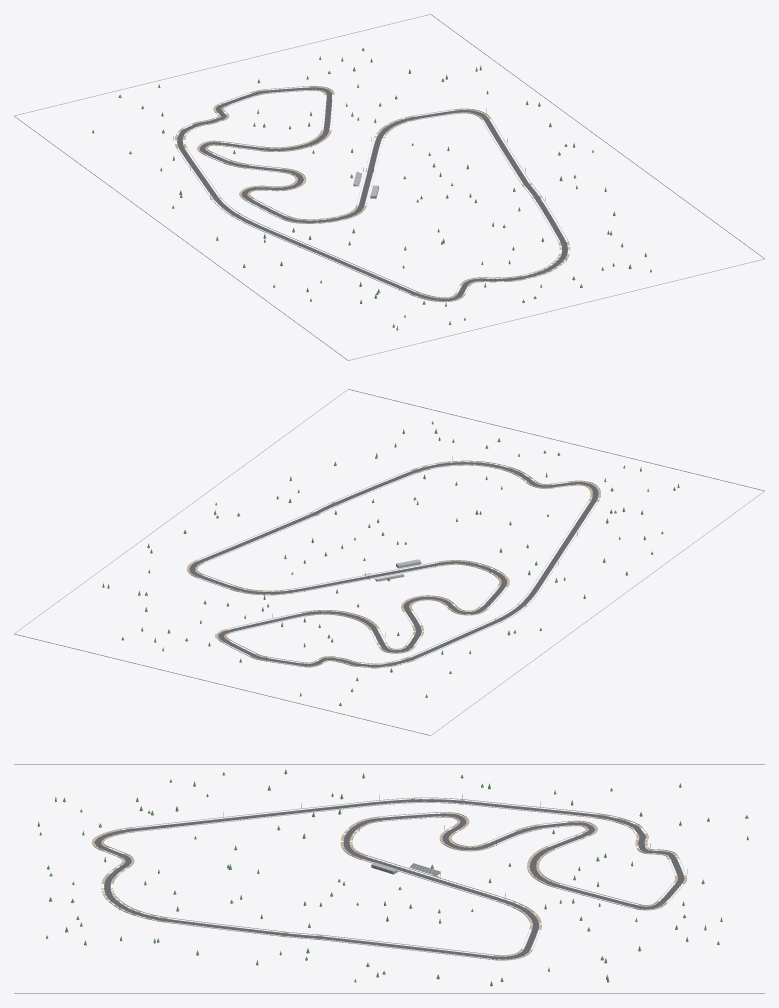
Rendered from interlagos.glb.
3 views of the same model, one above another, from view 1: azimuth 30°, elevation 25°; view 2: azimuth 150°, elevation 25°; view 3: azimuth 270°, elevation 25° (orthographic). The views are drawn at different scales.
Parts seen in each view (by area): view 1: interlagos.tarmac, interlagos.barrier, interlagos.gravel, interlagos.foliage; view 2: interlagos.tarmac, interlagos.barrier, interlagos.gravel, interlagos.foliage; view 3: interlagos.tarmac, interlagos.barrier, interlagos.gravel, interlagos.foliage.
Part boxes in pixels (<box>): interlagos.tarmac: <box>177,87,567,301</box>; interlagos.barrier: <box>14,14,764,360</box>; interlagos.gravel: <box>174,86,570,302</box>; interlagos.foliage: <box>92,48,651,330</box>; interlagos.tarmac: <box>189,462,598,667</box>; interlagos.barrier: <box>14,389,764,735</box>; interlagos.gravel: <box>187,461,600,668</box>; interlagos.foliage: <box>102,421,679,705</box>; interlagos.tarmac: <box>94,799,684,959</box>; interlagos.barrier: <box>14,764,764,993</box>; interlagos.gravel: <box>91,798,687,960</box>; interlagos.foliage: <box>37,769,748,986</box>.
Bounding box in the file's own units: 967 × 12.48 × 1344.
